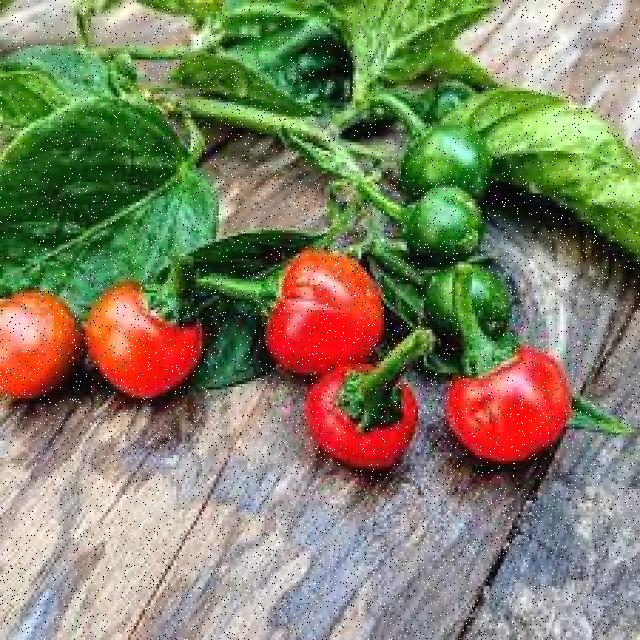NA: (54, 227, 208, 431), (232, 240, 402, 400), (448, 335, 590, 475), (318, 357, 438, 510), (360, 92, 522, 196), (0, 235, 78, 431)
